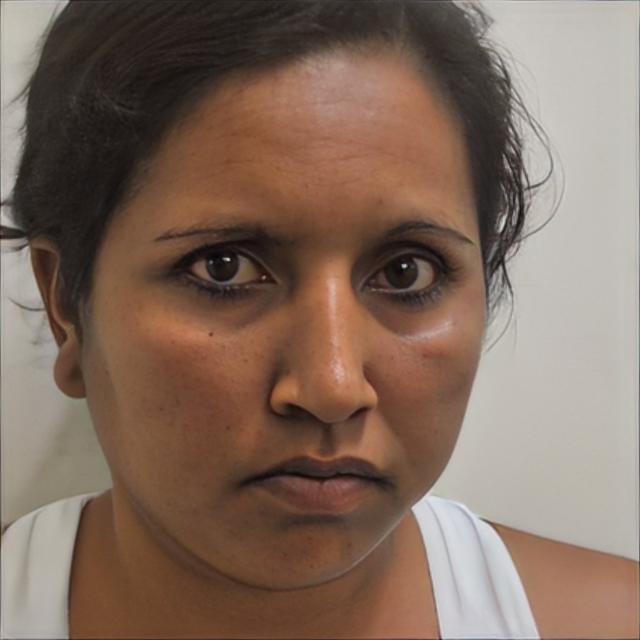sad: (87, 59, 488, 594)
